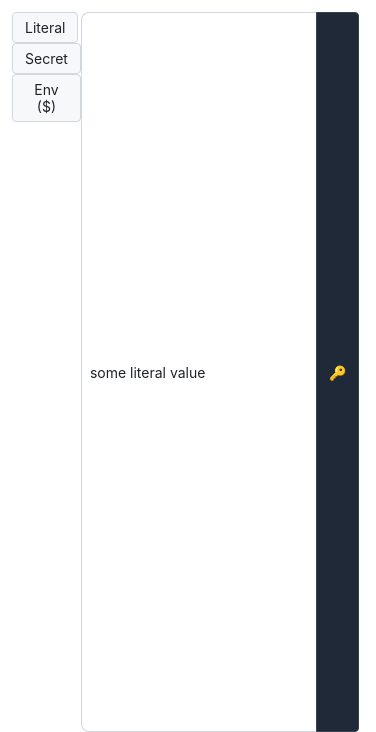
SecretPicker — case 8b: vault_state=decrypt_failed + literal value → [CN-disabled] only, no [CR] › input has no broken/unverified class (literal); dropdown body is just [CN-disabled] — no Currently-referenced section
Click the button named "Pick secret": click(338, 372) [316, 12, 359, 731]
(page scrolled)
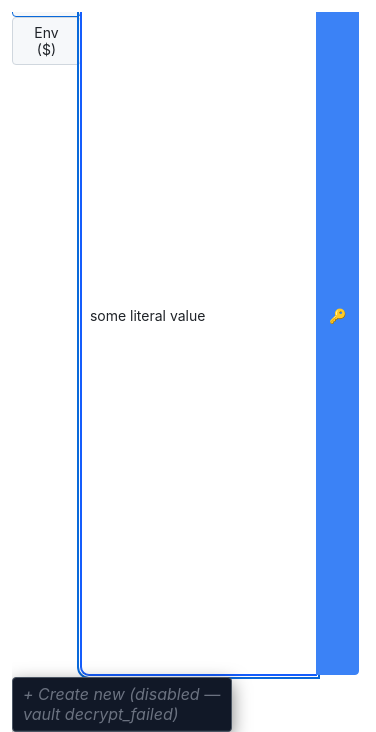
Expected: the option "+ Create new (disabled — vault decrypt_failed)" is shown, [13, 678, 231, 731]
